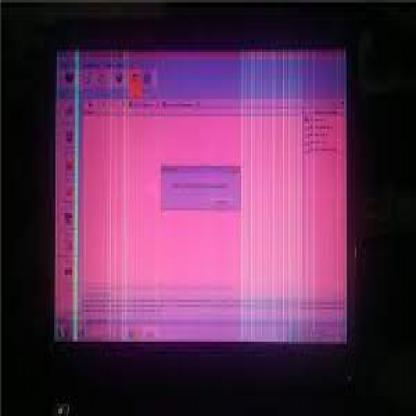fade: (57, 50, 344, 341)
lines: (66, 52, 88, 339)
